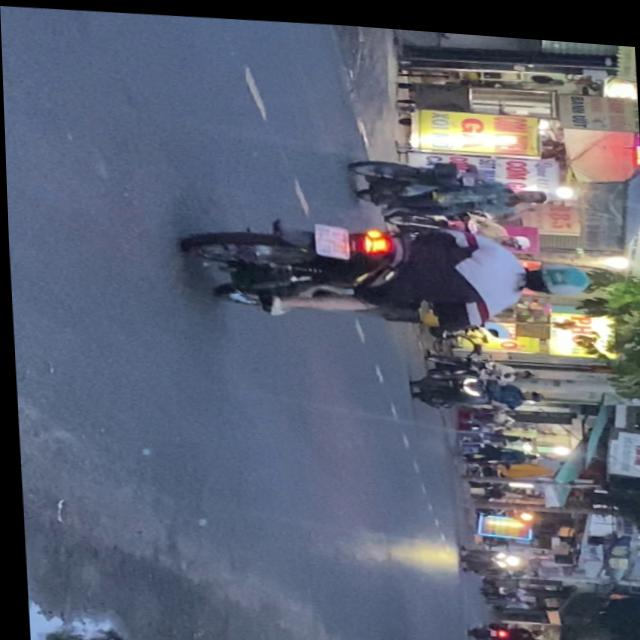helmet: (518, 250, 590, 291)
licenseplate: (178, 198, 595, 337), (345, 145, 551, 217)
motorcyclist: (511, 177, 550, 198)
nohelmet: (313, 217, 347, 254)
